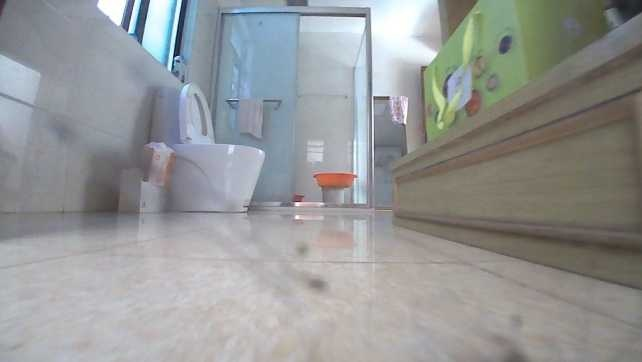toilet: (147, 81, 266, 214)
